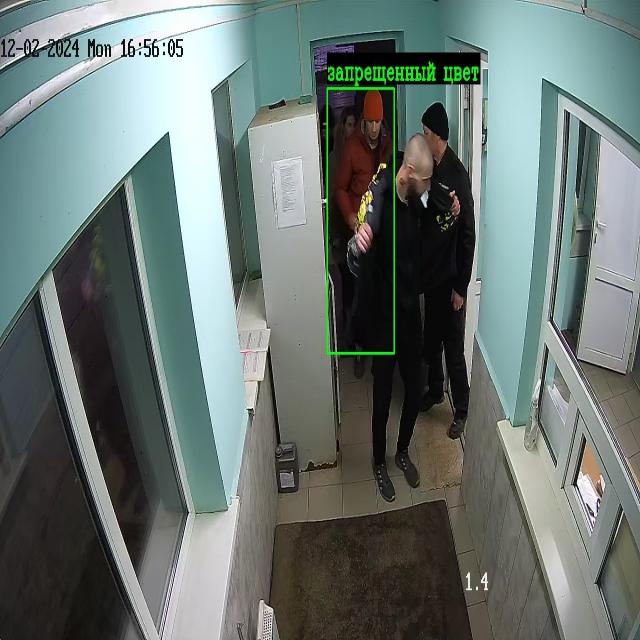Person: (348, 132, 433, 501), (420, 103, 475, 438), (335, 91, 392, 260), (330, 107, 355, 239), (320, 104, 335, 182), (340, 265, 354, 301)
